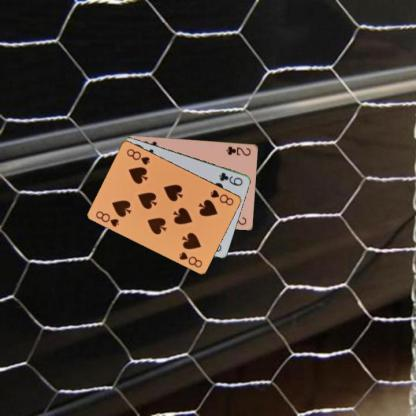2c: (223, 143, 252, 157)
8s: (208, 186, 235, 206), (93, 208, 120, 228)
9c: (216, 170, 244, 187)
